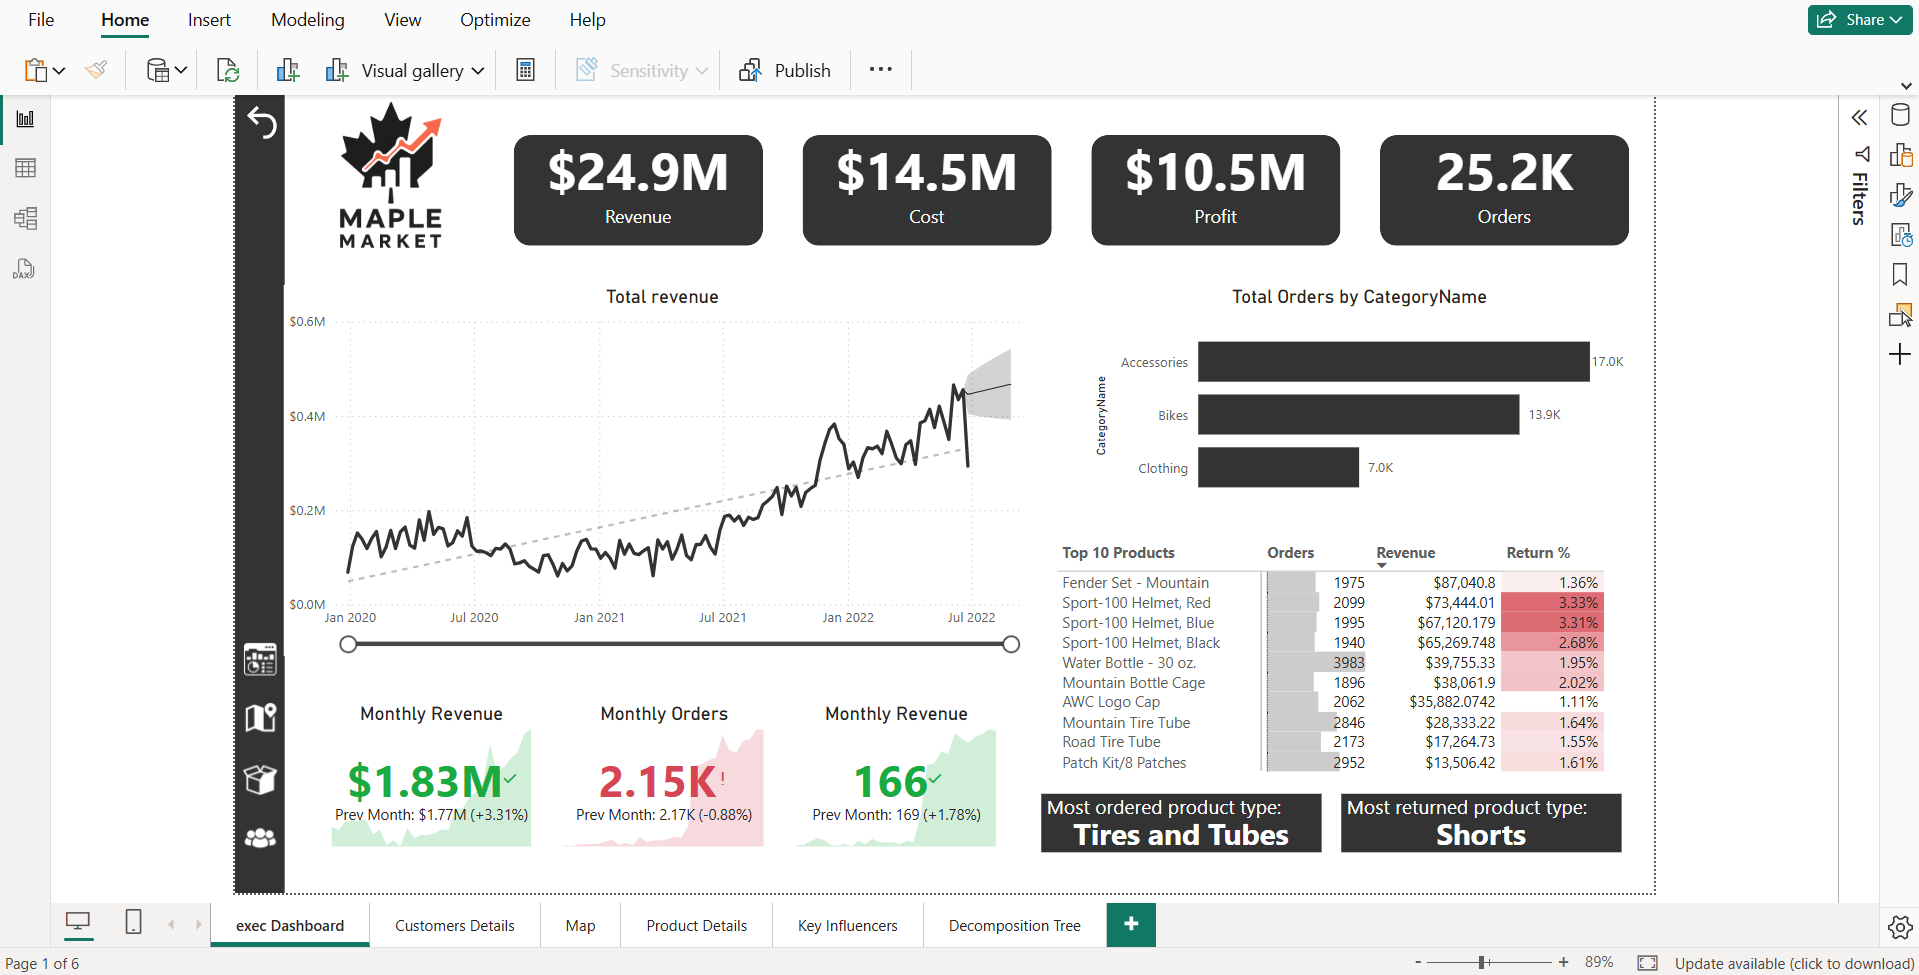

What the dashboard file says about the page in this screenshot:
{"tool":"powerbi","page":{"name":"exec Dashboard","canvas":[1280,720],"ordinal":0},"visuals":[{"type":"card","fields":{"Values":["Table Measures.Total revenue"]},"box":[241.2,11.2,245,133],"z":0,"group":"g3"},{"type":"shape","box":[251.2,36.2,225,100],"z":0,"group":"g2"},{"type":"actionButton","box":[0,489.1,45.2,39.1],"z":0,"group":"g4"},{"type":"shape","title":"left nav","box":[0,0,45,720],"z":1000},{"type":"card","fields":{"Values":["Table Measures.Total Orders"]},"box":[1022.4,11.2,245,132.5],"z":1000,"group":"g3"},{"type":"shape","box":[511.6,36.2,225,100],"z":1000,"group":"g2"},{"type":"actionButton","box":[0,542.9,45.2,39.1],"z":1000,"group":"g4"},{"type":"group","id":"g1","title":"KPIs","box":[241.2,11.2,1026.2,133],"z":2000},{"type":"card","fields":{"Values":["Table Measures.Total cost"]},"box":[501.6,11.2,245,132.5],"z":2000,"group":"g3"},{"type":"group","id":"g2","title":"KPIs shapes","box":[251.2,36.2,1006.2,100],"z":2000,"group":"g1"},{"type":"shape","box":[772,36.2,225,100],"z":2000,"group":"g2"},{"type":"actionButton","box":[0,650.5,45.2,39.1],"z":2000,"group":"g4"},{"type":"group","id":"g3","title":"KPIs cards","box":[241.2,11.2,1026.2,133],"z":3000,"group":"g1"},{"type":"card","fields":{"Values":["Table Measures.Total profit"]},"box":[762,11.2,245,132.5],"z":3000,"group":"g3"},{"type":"shape","box":[1032.4,36.2,225,100],"z":3000,"group":"g2"},{"type":"lineChart","title":"Total revenue","fields":{"Y":["Table Measures.Total revenue"],"Category":["Calendar Lookup.Start of Week"]},"box":[44.3,171.4,682.9,334.3],"z":3000},{"type":"actionButton","box":[0,596.7,45.2,39.1],"z":3000,"group":"g4"},{"type":"kpi","title":"Monthly Revenue","fields":{"Indicator":["Table Measures.Total revenue"],"TrendLine":["Calendar Lookup.Start of Month"],"Goal":["Table Measures.Previous Month revenue"]},"box":[82.5,547.5,190,135],"z":4000},{"type":"kpi","title":"Monthly Orders","fields":{"TrendLine":["Calendar Lookup.Start of Month"],"Goal":["Table Measures.Previous month orders"],"Indicator":["Table Measures.Total Orders"]},"box":[291.9,547.5,190,135],"z":5000},{"type":"kpi","title":"Monthly Revenue","fields":{"TrendLine":["Calendar Lookup.Start of Month"],"Indicator":["Table Measures.Total Returns"],"Goal":["Table Measures.Previous month returns"]},"box":[501.2,547.5,190,135],"z":6000},{"type":"barChart","fields":{"Category":["Product_Categories_Lookup.CategoryName"],"Y":["Table Measures.Total Orders"]},"box":[771.2,171.2,486.2,208.8],"z":7000},{"type":"pivotTable","fields":{"Values":["Table Measures.Total Orders","Table Measures.Total revenue","Table Measures.Return Rate"],"Rows":["Product_Lookup.ProductName"]},"box":[736.2,397.5,521.2,217.5],"z":8000},{"type":"card","title":"Most ordered product type:","fields":{"Values":["Min(Product_Subcategories_Lookup.SubcategoryName)"]},"box":[727.5,630,252.5,52.5],"z":9000},{"type":"card","title":"Most returned product type:","fields":{"Values":["Min(Product_Subcategories_Lookup.SubcategoryName)"]},"box":[997.5,630,252.5,52.5],"z":10000},{"type":"actionButton","box":[4.3,4.3,44.3,40],"z":11000},{"type":"group","id":"g4","title":"navigation buttons","box":[0,489.1,45.2,200.5],"z":11001},{"type":"image","box":[26.9,0,228.7,144.3],"z":11002}]}

Visuals, with their boxes on the page's 1280x720 design canvas (x1, y1, x2, y2). These are canvas units, not pixel positions in the 1919x975 screenshot, which may show the page scaled, cropped or inside an application window:
card - Table Measures.Total revenue: x1=241, y1=11, x2=486, y2=144
shape: x1=251, y1=36, x2=476, y2=136
actionButton: x1=0, y1=489, x2=45, y2=528
"left nav" shape: x1=0, y1=0, x2=45, y2=720
card - Table Measures.Total Orders: x1=1022, y1=11, x2=1267, y2=144
shape: x1=512, y1=36, x2=737, y2=136
actionButton: x1=0, y1=543, x2=45, y2=582
"KPIs" group: x1=241, y1=11, x2=1267, y2=144
card - Table Measures.Total cost: x1=502, y1=11, x2=747, y2=144
"KPIs shapes" group: x1=251, y1=36, x2=1257, y2=136
shape: x1=772, y1=36, x2=997, y2=136
actionButton: x1=0, y1=650, x2=45, y2=690
"KPIs cards" group: x1=241, y1=11, x2=1267, y2=144
card - Table Measures.Total profit: x1=762, y1=11, x2=1007, y2=144
shape: x1=1032, y1=36, x2=1257, y2=136
"Total revenue" lineChart: x1=44, y1=171, x2=727, y2=506
actionButton: x1=0, y1=597, x2=45, y2=636
"Monthly Revenue" kpi: x1=82, y1=548, x2=272, y2=682
"Monthly Orders" kpi: x1=292, y1=548, x2=482, y2=682
"Monthly Revenue" kpi: x1=501, y1=548, x2=691, y2=682
barChart - Product_Categories_Lookup.CategoryName x Table Measures.Total Orders: x1=771, y1=171, x2=1257, y2=380
pivotTable - Table Measures.Total Orders x Table Measures.Total revenue: x1=736, y1=398, x2=1257, y2=615
"Most ordered product type:" card: x1=728, y1=630, x2=980, y2=682
"Most returned product type:" card: x1=998, y1=630, x2=1250, y2=682
actionButton: x1=4, y1=4, x2=49, y2=44
"navigation buttons" group: x1=0, y1=489, x2=45, y2=690
image: x1=27, y1=0, x2=256, y2=144
